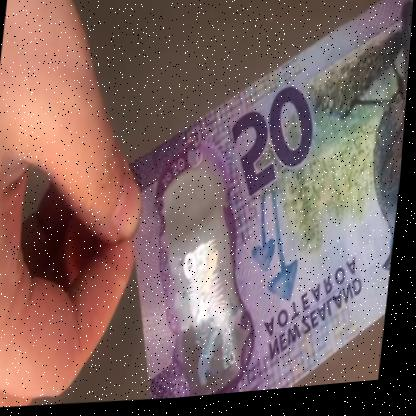50B: (172, 166, 263, 398)
